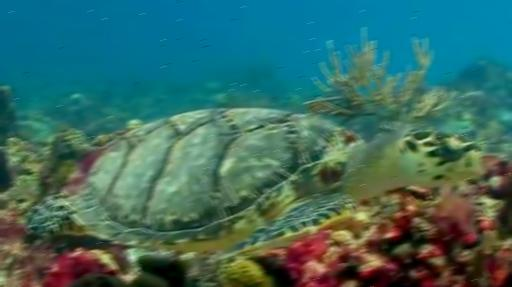Fish: (25, 108, 483, 251)
